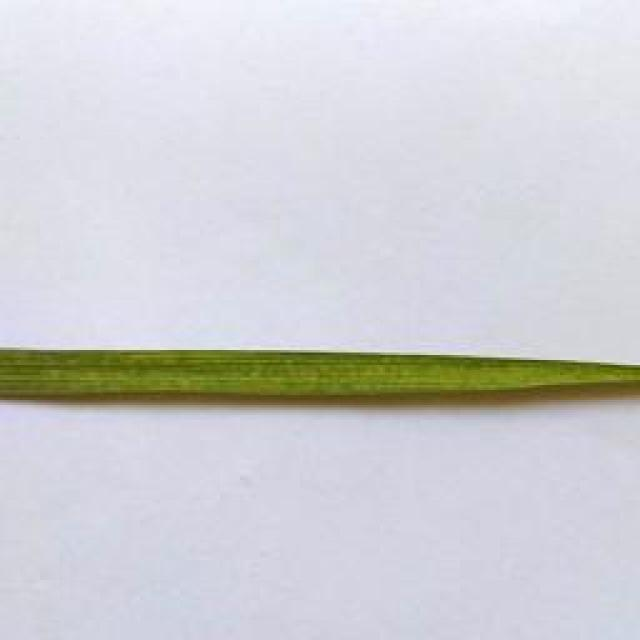Healthy-Plant: (0, 348, 640, 399)
